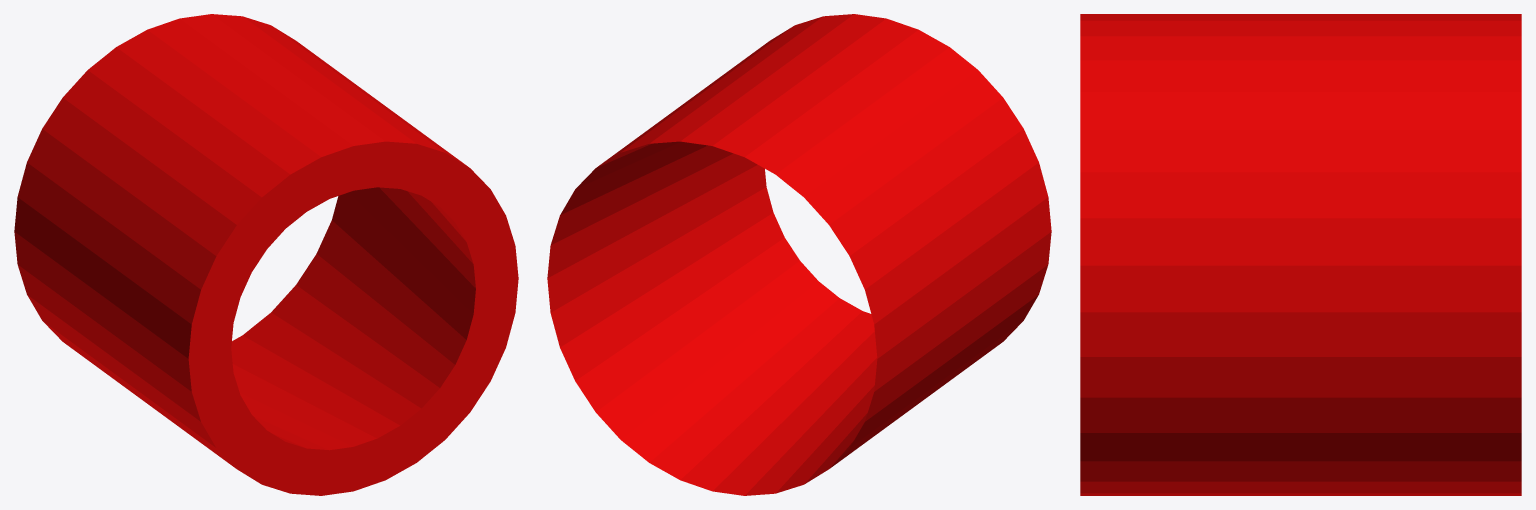
File: bURACO.fbx
3 renders of one model, left to right at view 1: azimuth 30°, elevation 25°; view 2: azimuth 150°, elevation 25°; view 3: azimuth 270°, elevation 25°, orthographic. The views are drawn at different scales.
Parts seen in each view (by area): view 1: Cube; view 2: Cube; view 3: Cube.
Boxes of the visible parts, box(x1,y1,x2,y2) form: Cube: box(14, 14, 518, 495); Cube: box(547, 14, 1051, 495); Cube: box(1080, 14, 1521, 495).
Size of the model in its own units: 351 by 351 by 321.
